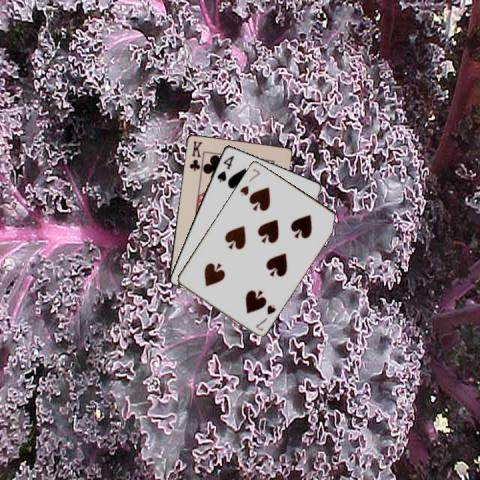4s: (214, 152, 235, 183)
7s: (237, 166, 261, 198), (253, 301, 277, 332)
Kc: (186, 138, 203, 172)
